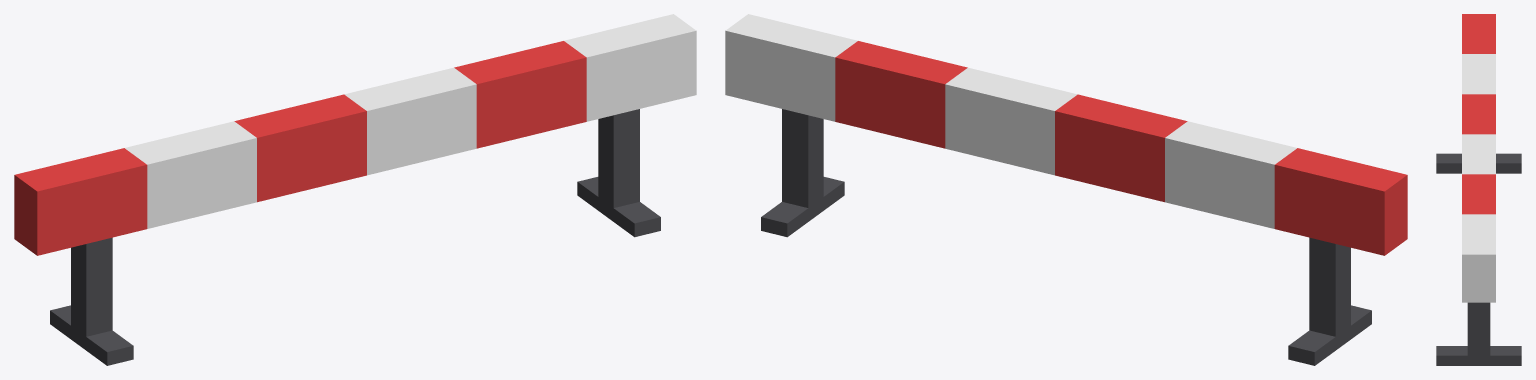
The model's file is Barrier.fbx.
3 renders of one model, left to right at view 1: azimuth 30°, elevation 25°; view 2: azimuth 150°, elevation 25°; view 3: azimuth 270°, elevation 25°, orthographic. The views are drawn at different scales.
Parts seen in each view (by area): view 1: Barrier_PanelRed, Barrier_PanelWhite, Barrier_Legs; view 2: Barrier_PanelRed, Barrier_PanelWhite, Barrier_Legs; view 3: Barrier_PanelWhite, Barrier_PanelRed, Barrier_Legs.
Boxes of the visible parts, x1,y1,x2,y2 form: Barrier_PanelRed: (14,41,586,255); Barrier_PanelWhite: (125,14,696,228); Barrier_Legs: (50,109,660,365); Barrier_PanelRed: (835,41,1407,255); Barrier_PanelWhite: (725,14,1296,228); Barrier_Legs: (761,109,1371,365); Barrier_PanelWhite: (1462,54,1495,302); Barrier_PanelRed: (1462,14,1495,214); Barrier_Legs: (1436,153,1521,365).
Size of the model in its own units: 3 by 0.76 by 0.45.
